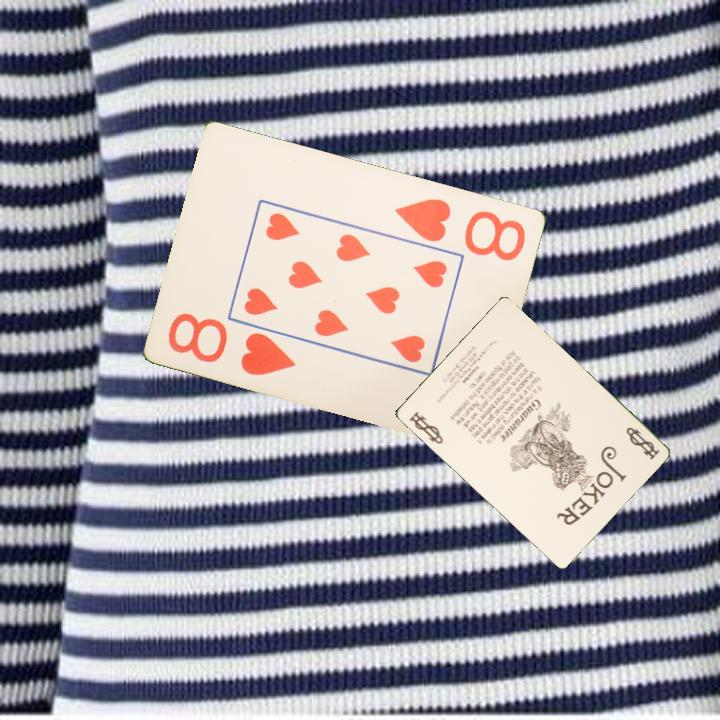8h: (391, 194, 529, 264), (165, 308, 300, 379)
JK: (622, 423, 662, 463), (405, 408, 446, 447)
